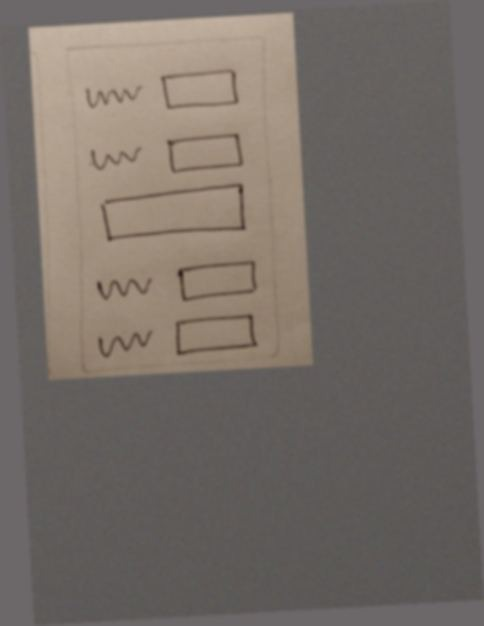text: (92, 266, 155, 311), (90, 324, 158, 364), (84, 136, 148, 178), (80, 79, 146, 112)
text_input: (93, 180, 257, 252), (152, 63, 249, 115), (172, 311, 264, 362), (170, 256, 263, 305), (160, 128, 248, 176)
